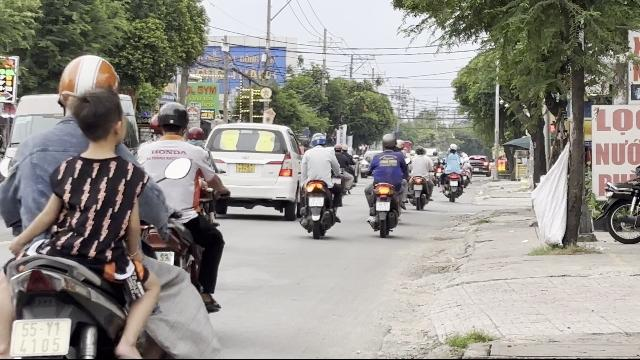helmet: (55, 54, 127, 128), (152, 101, 190, 137)
licenseplate: (10, 318, 70, 354)
motorcyclist: (0, 52, 218, 356), (130, 99, 230, 345)
nohelmet: (68, 92, 128, 156)
